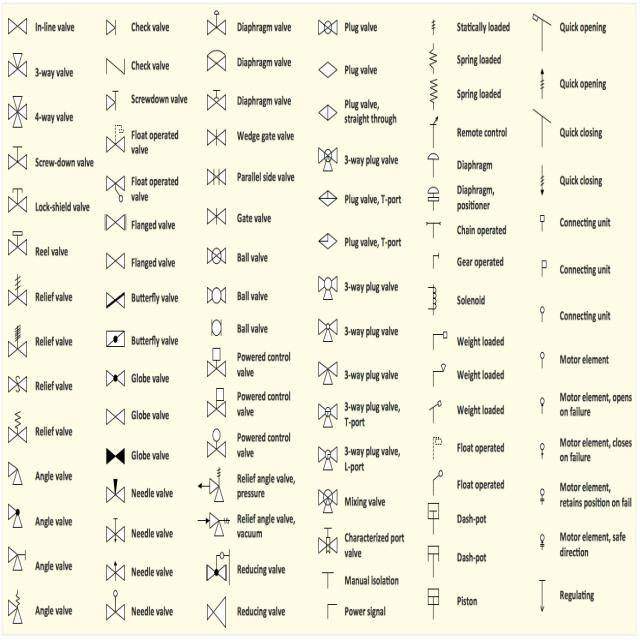3 Way Ball Valve: (314, 272, 342, 305)
3 Way Gate Valve: (4, 43, 30, 82), (312, 354, 340, 384)
3 Way Globe Valve: (314, 313, 342, 347)
4 Way Gate Valve: (2, 90, 30, 130)
Angle GlobeValve: (5, 498, 27, 538)
Angle Valve: (6, 458, 25, 488)
Ball Valve: (206, 280, 231, 308), (204, 242, 228, 270), (314, 16, 340, 34)
Check Valve: (103, 47, 128, 80)
Closed Gate Valve: (102, 434, 128, 469)
Diaphragm Valve: (200, 5, 228, 41)
Flanged: (100, 206, 130, 236)
Gate Valve: (6, 11, 30, 38), (104, 245, 126, 272), (104, 404, 126, 427)
Globe Valve: (104, 364, 128, 392)
Hand Operated Gate Valve: (3, 140, 30, 178), (6, 542, 32, 580)
Needle Valve: (204, 195, 232, 228), (313, 524, 339, 558), (105, 514, 128, 552), (105, 474, 128, 510), (101, 556, 128, 586), (202, 121, 229, 151)
Powered Gate Valve: (204, 342, 228, 380)
Relief Valve: (6, 320, 31, 362), (6, 272, 30, 314)
